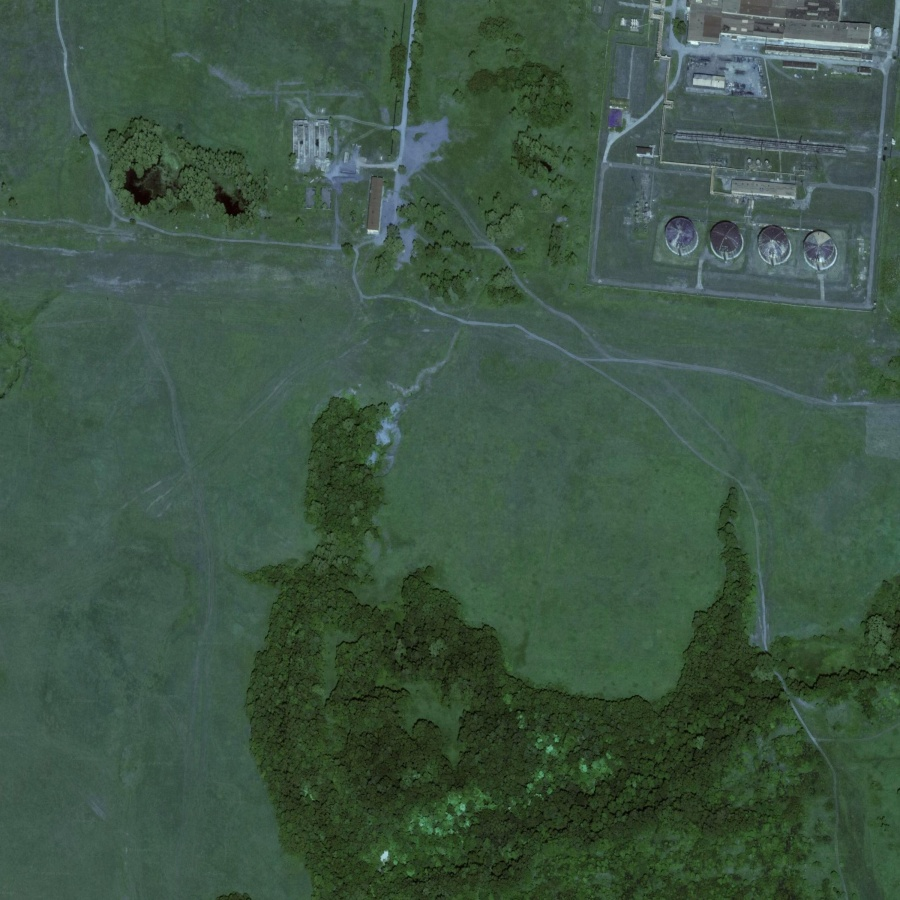PowerPlant: (658, 165, 868, 331)
